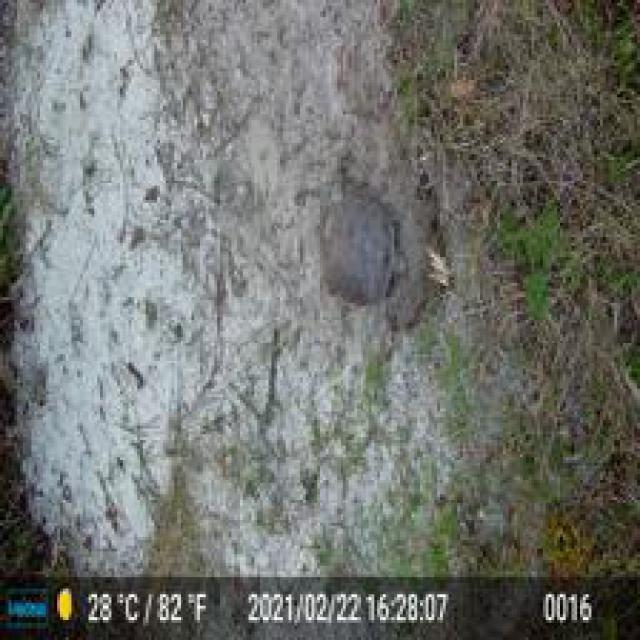tortoise: (320, 186, 403, 314)
